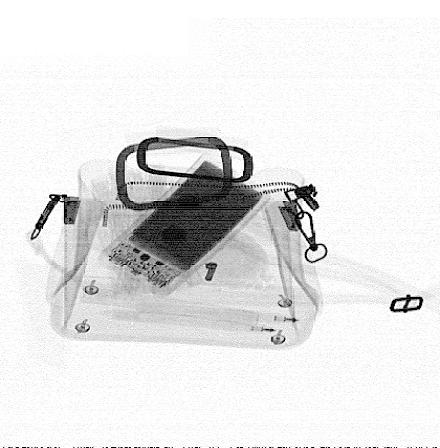Powerbank: (99, 151, 272, 297)
